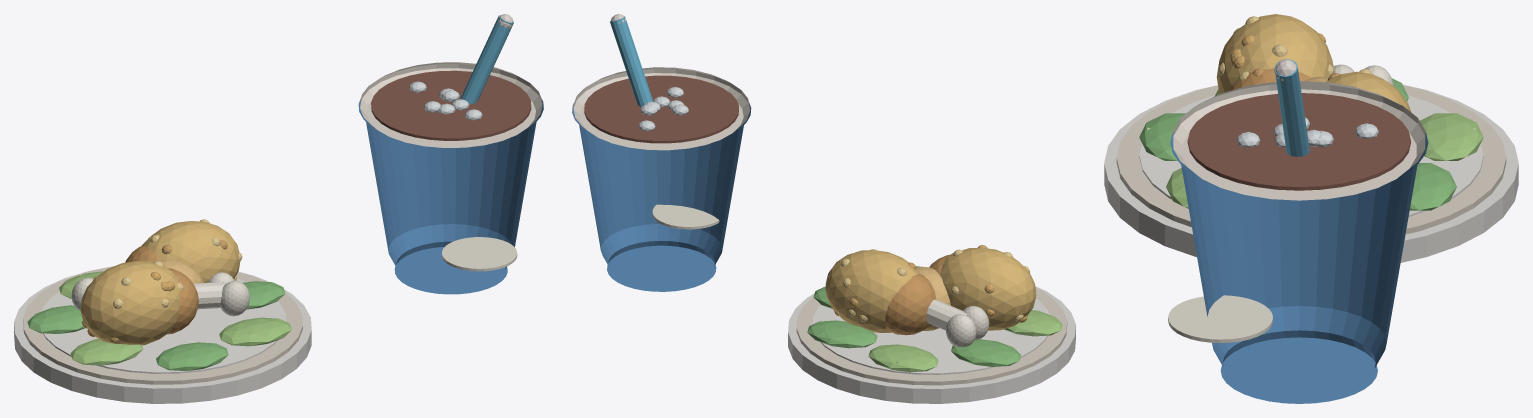
The model's file is combo_ga_nuoc.glb.
3 renders of one model, left to right at view 1: azimuth 30°, elevation 25°; view 2: azimuth 150°, elevation 25°; view 3: azimuth 270°, elevation 25°, orthographic. The views are drawn at different scales.
Visible parts, largest first — view 1: combo_node_0074, combo_node_0075, combo_node_0000, combo_node_0017, combo_node_0002, combo_node_0001, combo_node_0045, combo_node_0076, combo_node_0077, combo_node_0005, combo_node_0007, combo_node_0078 (+6 smaller); view 2: combo_node_0074, combo_node_0075, combo_node_0000, combo_node_0017, combo_node_0045, combo_node_0001, combo_node_0002, combo_node_0076, combo_node_0046, combo_node_0078, combo_node_0013, combo_node_0015 (+7 smaller); view 3: combo_node_0074, combo_node_0075, combo_node_0000, combo_node_0001, combo_node_0076, combo_node_0017, combo_node_0077, combo_node_0002, combo_node_0013, combo_node_0078, combo_node_0015, combo_node_0007 (+3 smaller).
Part boxes in pixels (<box>): combo_node_0074: <box>358,97,543,294</box>; combo_node_0075: <box>371,70,531,140</box>; combo_node_0000: <box>14,266,311,403</box>; combo_node_0017: <box>80,261,179,345</box>; combo_node_0002: <box>41,278,286,373</box>; combo_node_0001: <box>23,266,302,384</box>; combo_node_0045: <box>141,221,240,282</box>; combo_node_0076: <box>360,62,542,147</box>; combo_node_0077: <box>442,237,517,271</box>; combo_node_0005: <box>219,317,291,346</box>; combo_node_0007: <box>156,342,228,370</box>; combo_node_0078: <box>460,15,513,104</box>; combo_node_0074: <box>572,102,751,291</box>; combo_node_0075: <box>584,75,738,143</box>; combo_node_0000: <box>788,286,1075,403</box>; combo_node_0017: <box>940,248,1036,330</box>; combo_node_0045: <box>825,250,919,332</box>; combo_node_0001: <box>796,288,1067,385</box>; combo_node_0002: <box>812,298,1049,374</box>; combo_node_0076: <box>573,67,749,150</box>; combo_node_0046: <box>885,273,936,335</box>; combo_node_0078: <box>610,16,653,106</box>; combo_node_0013: <box>868,344,938,372</box>; combo_node_0015: <box>807,320,877,348</box>; combo_node_0074: <box>1170,132,1428,403</box>; combo_node_0075: <box>1187,93,1410,190</box>; combo_node_0000: <box>1104,84,1518,262</box>; combo_node_0001: <box>1116,85,1506,234</box>; combo_node_0076: <box>1173,81,1425,200</box>; combo_node_0017: <box>1216,14,1334,93</box>; combo_node_0077: <box>1168,295,1272,342</box>; combo_node_0002: <box>1139,95,1483,216</box>; combo_node_0013: <box>1420,113,1483,160</box>; combo_node_0078: <box>1274,59,1309,156</box>; combo_node_0015: <box>1409,163,1456,210</box>; combo_node_0007: <box>1139,113,1185,160</box>.
Size of the model in its own units: 2.61 by 1.27 by 1.37.
